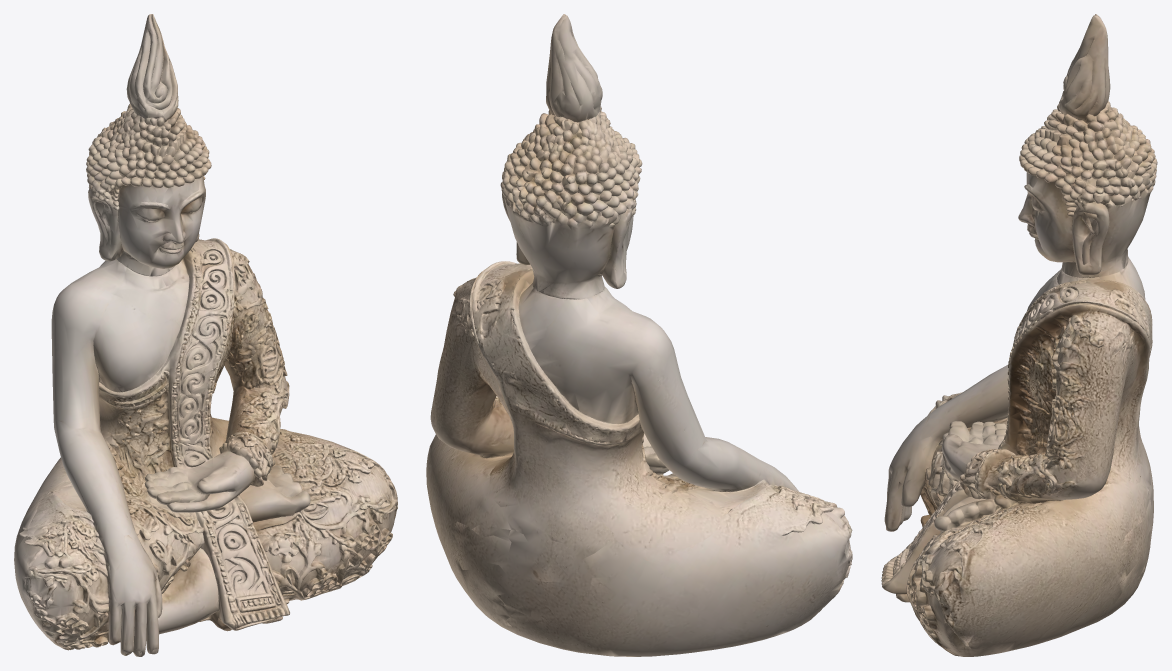
The model's file is hero-figure.glb.
3 views of the same model, side by side, from view 1: azimuth 30°, elevation 25°; view 2: azimuth 150°, elevation 25°; view 3: azimuth 270°, elevation 25° (orthographic). The views are drawn at different scales.
Visible parts, largest first — view 1: model; view 2: model; view 3: model.
Part boxes in pixels (x1,y1,x2,y2): model: (14, 14, 397, 656); model: (426, 14, 852, 656); model: (881, 14, 1157, 656).
Bounding box in the file's own units: 1.33 × 1.91 × 0.8392.
1 material, 1 textured.
